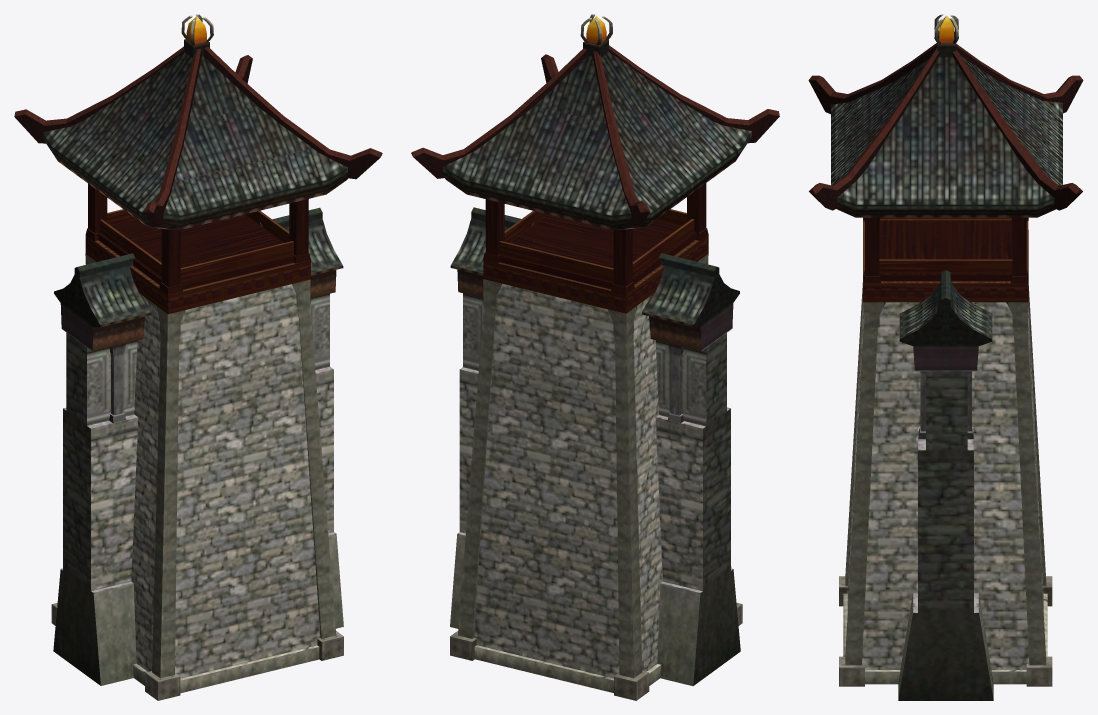
Rendered from c1-middledam-07.glb.
The picture shows the model from 3 angles, left to right: view 1: azimuth 30°, elevation 25°; view 2: azimuth 150°, elevation 25°; view 3: azimuth 270°, elevation 25°; orthographic projection.
Visible parts, largest first — view 1: b1-middledam-07-02; view 2: b1-middledam-07-02; view 3: b1-middledam-07-02.
Boxes of the visible parts, left/top/right/bottom form: b1-middledam-07-02: left=14, top=14, right=382, bottom=700; b1-middledam-07-02: left=411, top=14, right=779, bottom=700; b1-middledam-07-02: left=808, top=14, right=1083, bottom=700.
Size of the model in its own units: 5.02 by 12.29 by 4.9.
Materials: 3 (3 with a texture image).
